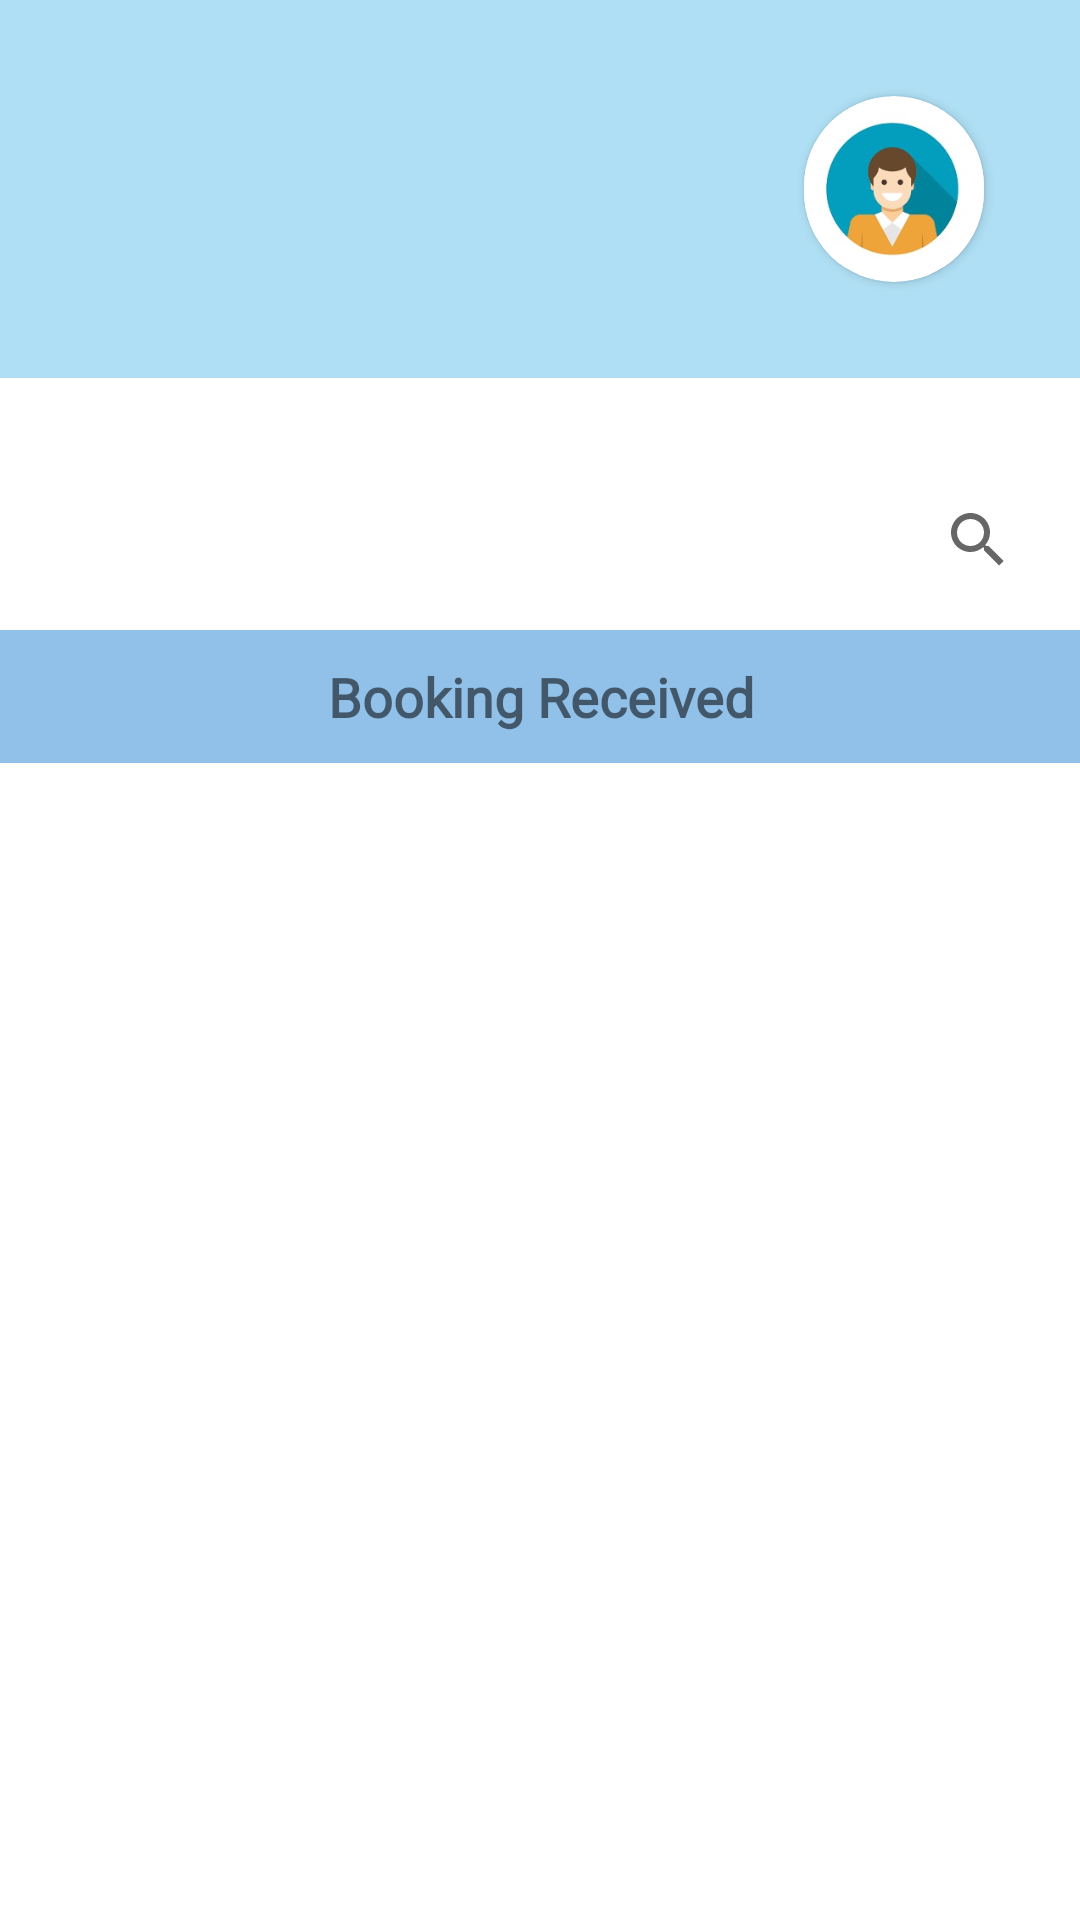

Icon bounding boxes for this 1080px x 1920px phone screenshot, format (x1, y1, x2, y2):
user: (804, 96, 984, 282)
